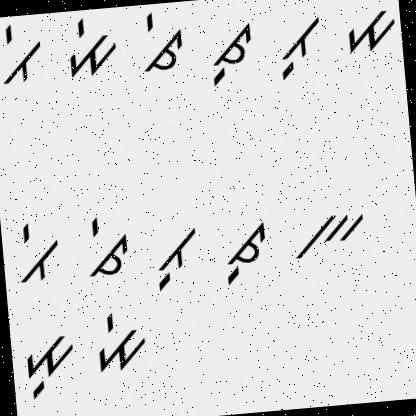be: (8, 214, 66, 291), (0, 21, 46, 88)
bu: (270, 12, 328, 86), (145, 223, 205, 294)
ce: (79, 212, 134, 284), (136, 8, 188, 78)
cu: (214, 216, 275, 289), (201, 21, 260, 90)
ma: (344, 0, 399, 57)
me: (56, 12, 124, 82), (88, 306, 154, 377)
mu: (16, 329, 82, 402)
